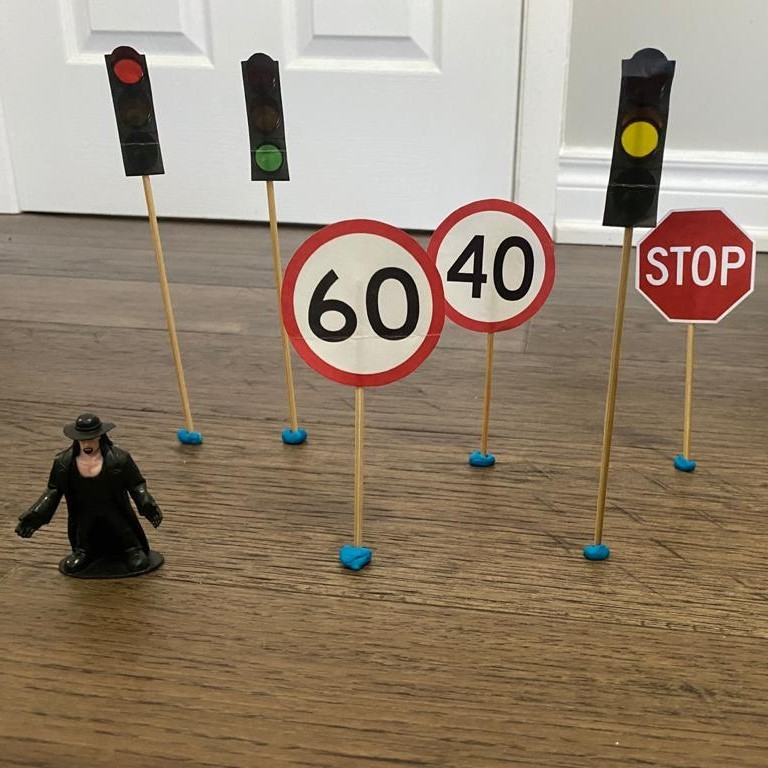Green Traffic Light: (237, 51, 294, 188)
Person: (11, 411, 168, 586)
Red Traffic Light: (101, 43, 167, 178)
Speed Limit 40: (428, 196, 559, 342)
Speed Limit 60: (278, 220, 445, 388)
Stop Sign: (632, 208, 755, 336)
Yellow Traffic Light: (597, 44, 678, 236)
